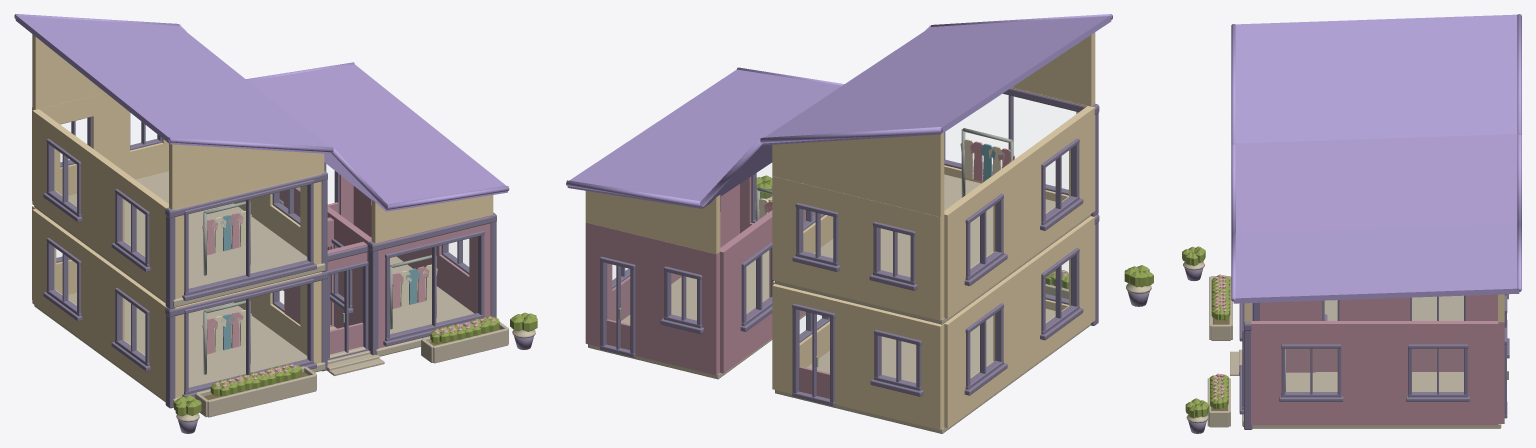
The picture shows the model from 3 angles, left to right: view 1: azimuth 30°, elevation 25°; view 2: azimuth 150°, elevation 25°; view 3: azimuth 270°, elevation 25°; orthographic projection. The views are drawn at different scales.
Visible parts, largest first — view 1: SM_14_01_建筑墙体, SM_14_02_曲面屋顶, SM_14_04_门窗楼梯, SM_14_05_景观植物, SM_14_03_木构回廊, SM_14_06_景观设施; view 2: SM_14_01_建筑墙体, SM_14_02_曲面屋顶, SM_14_04_门窗楼梯, SM_14_06_景观设施, SM_14_05_景观植物, SM_14_03_木构回廊; view 3: SM_14_02_曲面屋顶, SM_14_01_建筑墙体, SM_14_04_门窗楼梯, SM_14_05_景观植物, SM_14_03_木构回廊.
Part boxes in pixels (x1=…): SM_14_01_建筑墙体: x1=32, y1=34, x2=493, y2=406; SM_14_02_曲面屋顶: x1=14, y1=14, x2=509, y2=211; SM_14_04_门窗楼梯: x1=43, y1=112, x2=486, y2=397; SM_14_05_景观植物: x1=174, y1=312, x2=537, y2=433; SM_14_03_木构回廊: x1=165, y1=170, x2=496, y2=408; SM_14_06_景观设施: x1=202, y1=201, x2=437, y2=374; SM_14_01_建筑墙体: x1=585, y1=32, x2=1095, y2=433; SM_14_02_曲面屋顶: x1=566, y1=14, x2=1112, y2=208; SM_14_04_门窗楼梯: x1=600, y1=95, x2=1083, y2=406; SM_14_06_景观设施: x1=755, y1=128, x2=1014, y2=221; SM_14_05_景观植物: x1=756, y1=175, x2=1153, y2=306; SM_14_03_木构回廊: x1=1003, y1=88, x2=1099, y2=325; SM_14_02_曲面屋顶: x1=1231, y1=14, x2=1521, y2=303; SM_14_01_建筑墙体: x1=1242, y1=294, x2=1504, y2=428; SM_14_04_门窗楼梯: x1=1230, y1=294, x2=1509, y2=418; SM_14_05_景观植物: x1=1182, y1=246, x2=1232, y2=433; SM_14_03_木构回廊: x1=1243, y1=302, x2=1259, y2=429.
Size of the model in its own units: 10.72 by 8.13 by 9.4.
